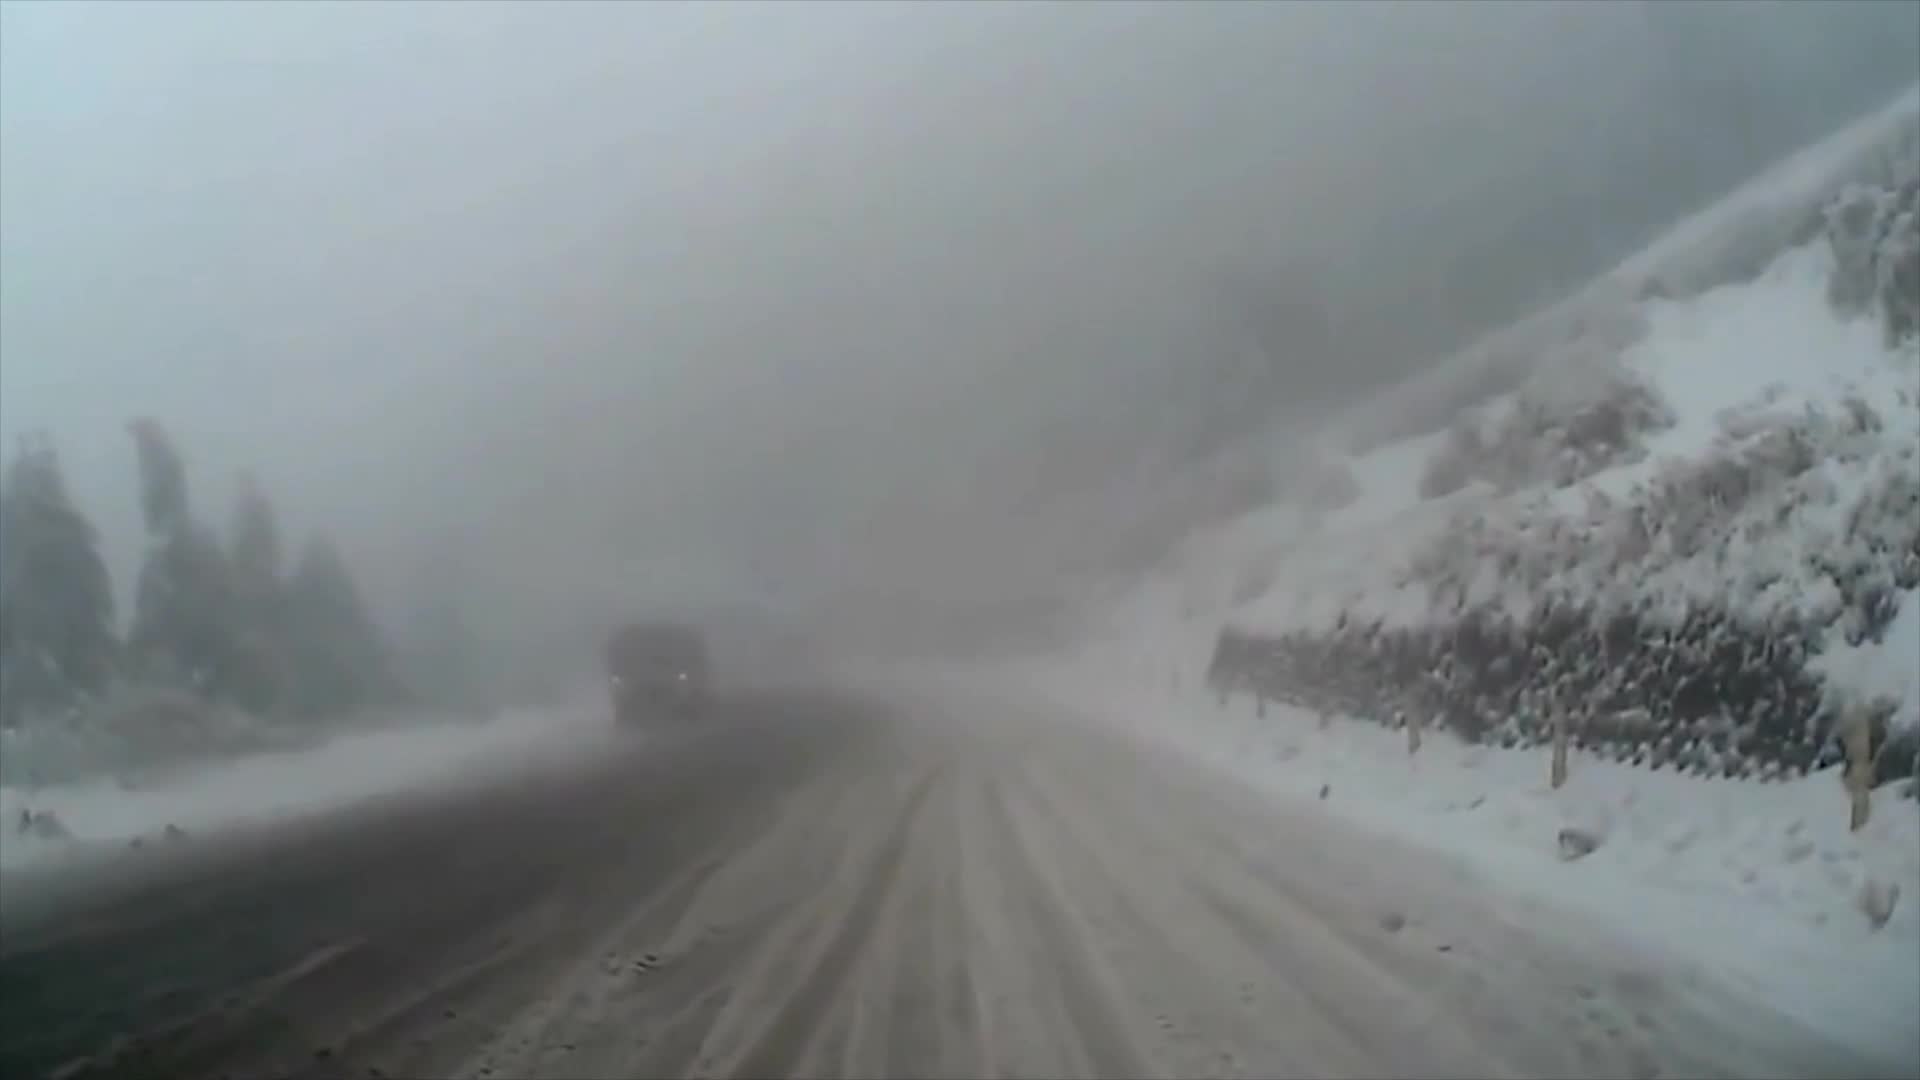vehicle: (599, 626, 709, 723)
